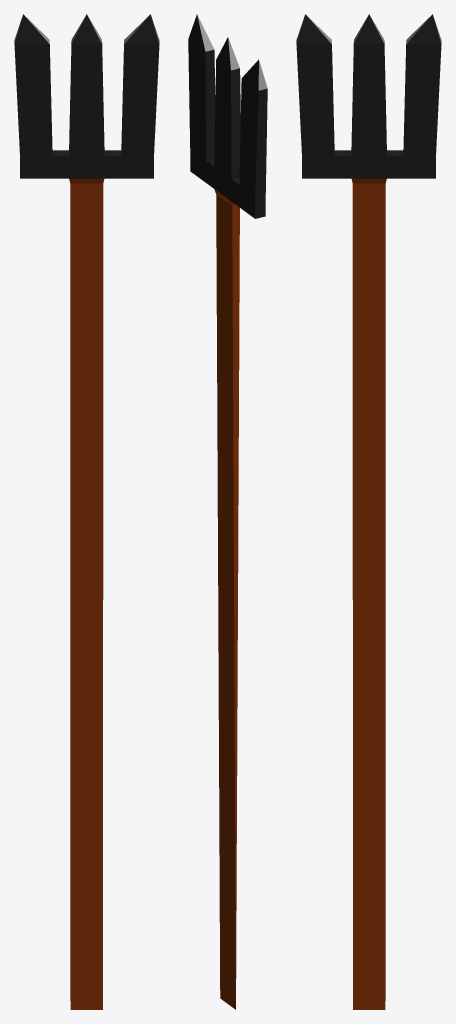
File: pitchfork.obj
3 views of the same model, side by side, from view 1: azimuth 90°, elevation 25°; view 2: azimuth 210°, elevation 25°; view 3: azimuth 270°, elevation 25° (orthographic). The views are drawn at different scales.
Parts seen in each view (by area): view 1: pitchfork; view 2: pitchfork; view 3: pitchfork.
Boxes of the visible parts, left/top/right/bottom form: pitchfork: left=14, top=14, right=159, bottom=1009; pitchfork: left=188, top=14, right=267, bottom=1009; pitchfork: left=296, top=14, right=441, bottom=1009.
Size of the model in its own units: 0.0103 by 0.9067 by 0.1196.
